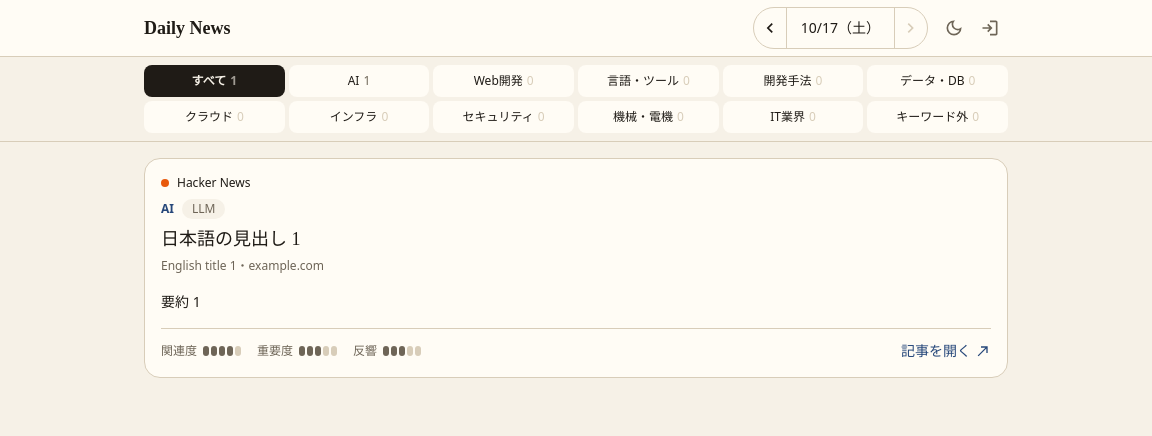
Test: 過去の日 › 最新の日では帯を出さない。前の日へ移ると帯を出し、「最新へ」で戻ると消える
Expected: the link "日本語の見出し 1" is shown, [161,229,300,249]
Expected: the text "の一覧を表示中" is not shown
Click the button named "前の日": (770, 28) [754,8,786,48]
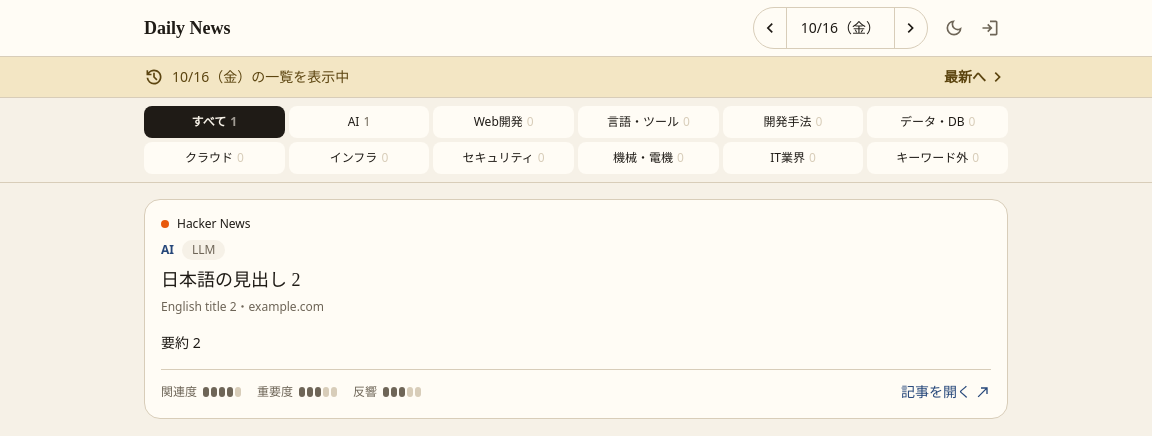
Expected: the text "10/16（金）の一覧を表示中" is shown, [128,57,1024,97]
Expected: the link "日本語の見出し 2" is shown, [161,270,300,290]
Click the button "最新へ": (976, 77) [944,59,1008,95]
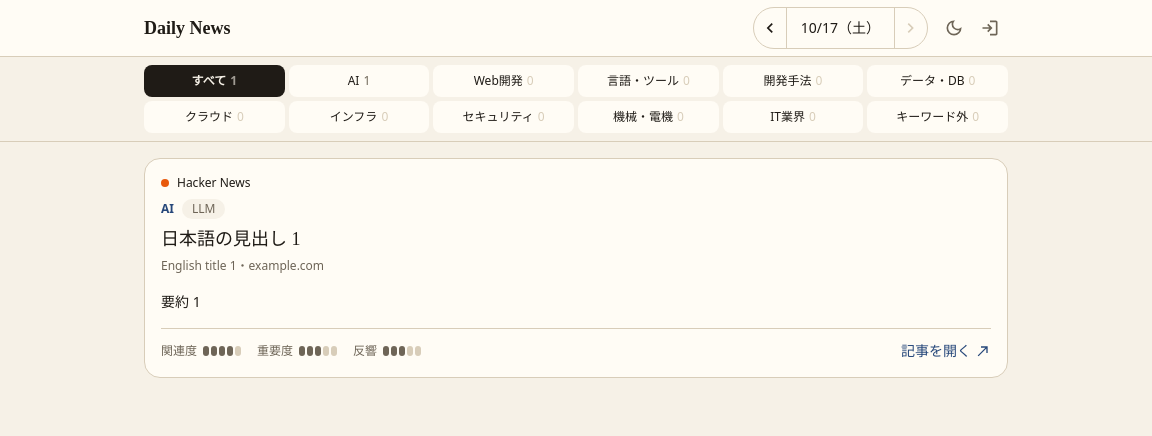
Expected: the link "日本語の見出し 1" is shown, [161,229,300,249]
Expected: the text "の一覧を表示中" is gone
